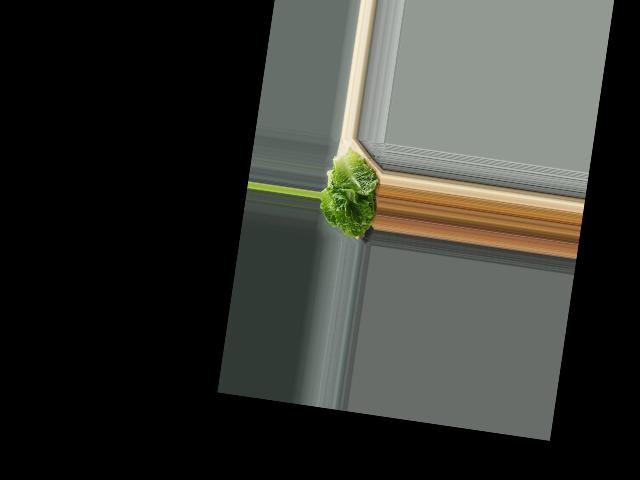lettuce: (315, 147, 385, 242)
